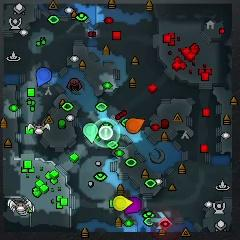Other: (99, 125, 113, 140)
p1: (36, 67, 51, 86)
p2: (83, 123, 99, 143)
p3: (123, 197, 142, 214)
p4: (113, 196, 133, 211)
p5: (125, 118, 145, 134)
x3: (151, 212, 168, 229)
